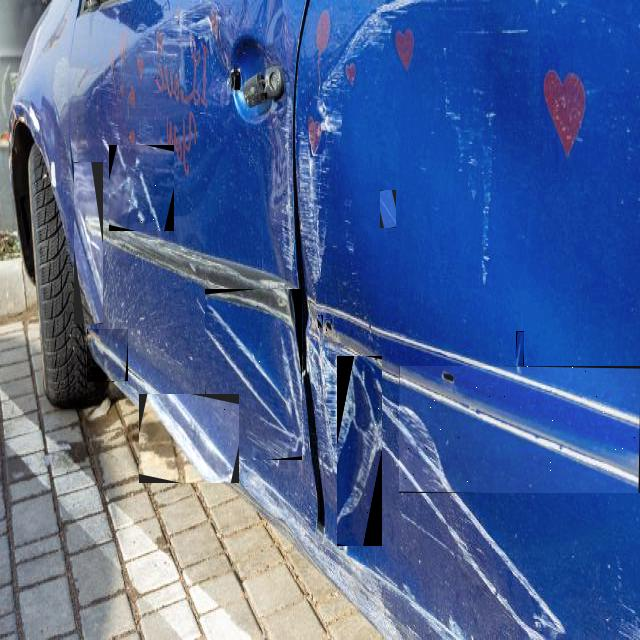Dent: (399, 366, 640, 493), (205, 289, 302, 460), (139, 394, 239, 483), (337, 356, 382, 546), (109, 145, 174, 231), (74, 162, 103, 324), (87, 329, 128, 384), (380, 190, 396, 228), (516, 331, 524, 370), (144, 208, 154, 222), (326, 319, 332, 331), (318, 315, 323, 328)
